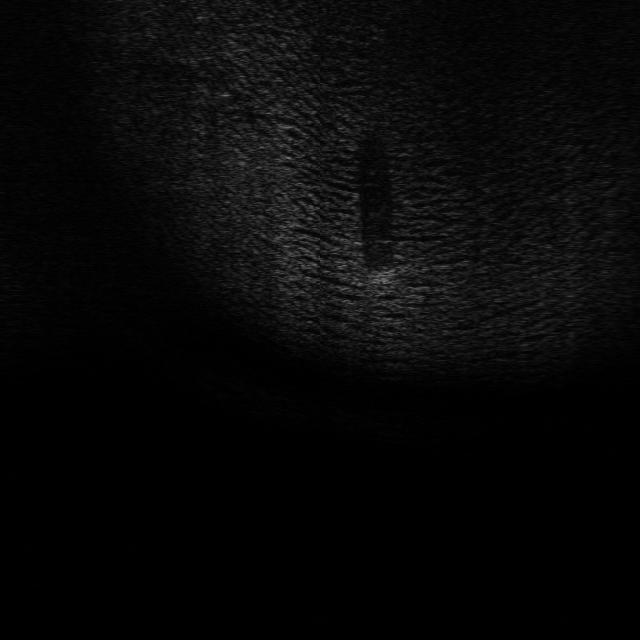cube: (362, 260, 401, 290)
